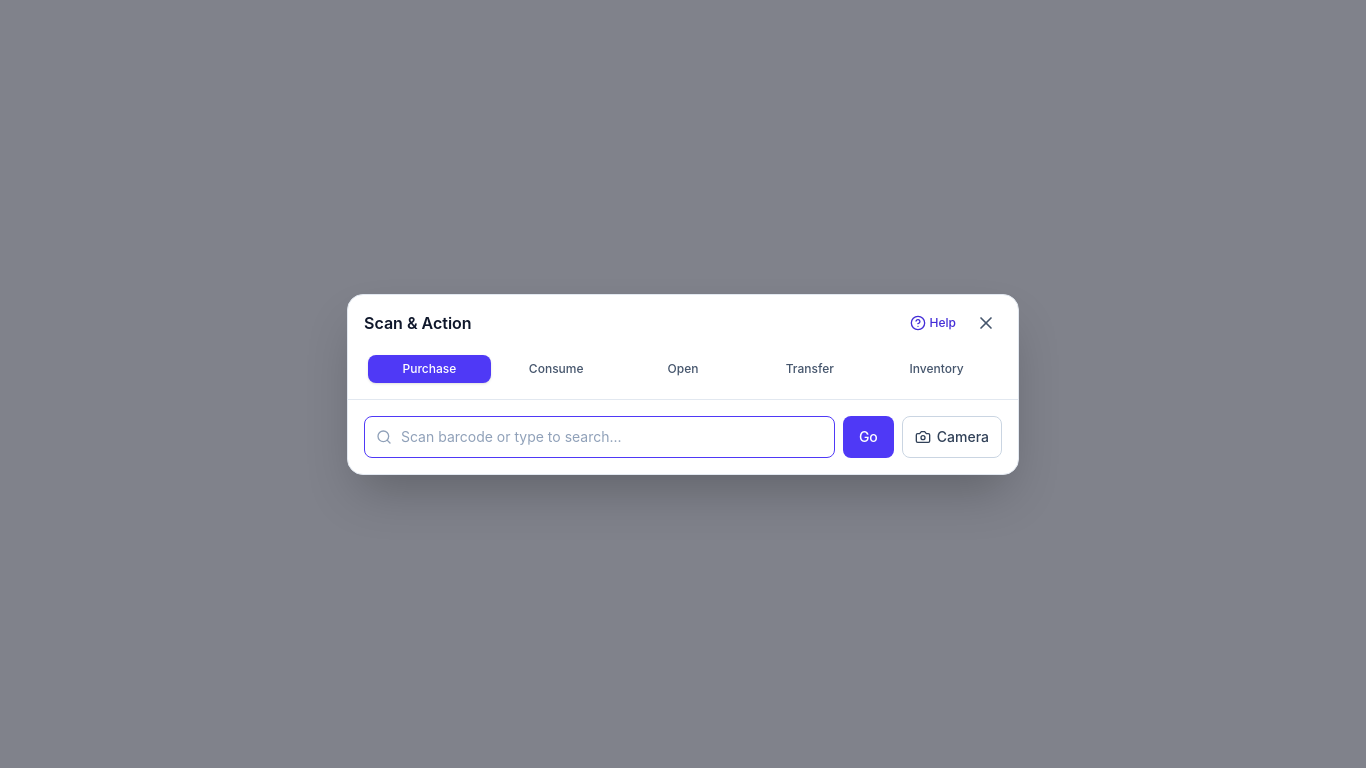
it: BarcodeScanner and ScannerDrawer › pre-fills Purchase Due Date from calculated_due_days when scanning a known barcode
The width and height of the screenshot is (1366, 768).
In the field named "Barcode or search input": point(599, 436) [364,416,835,458], type "028400156363"
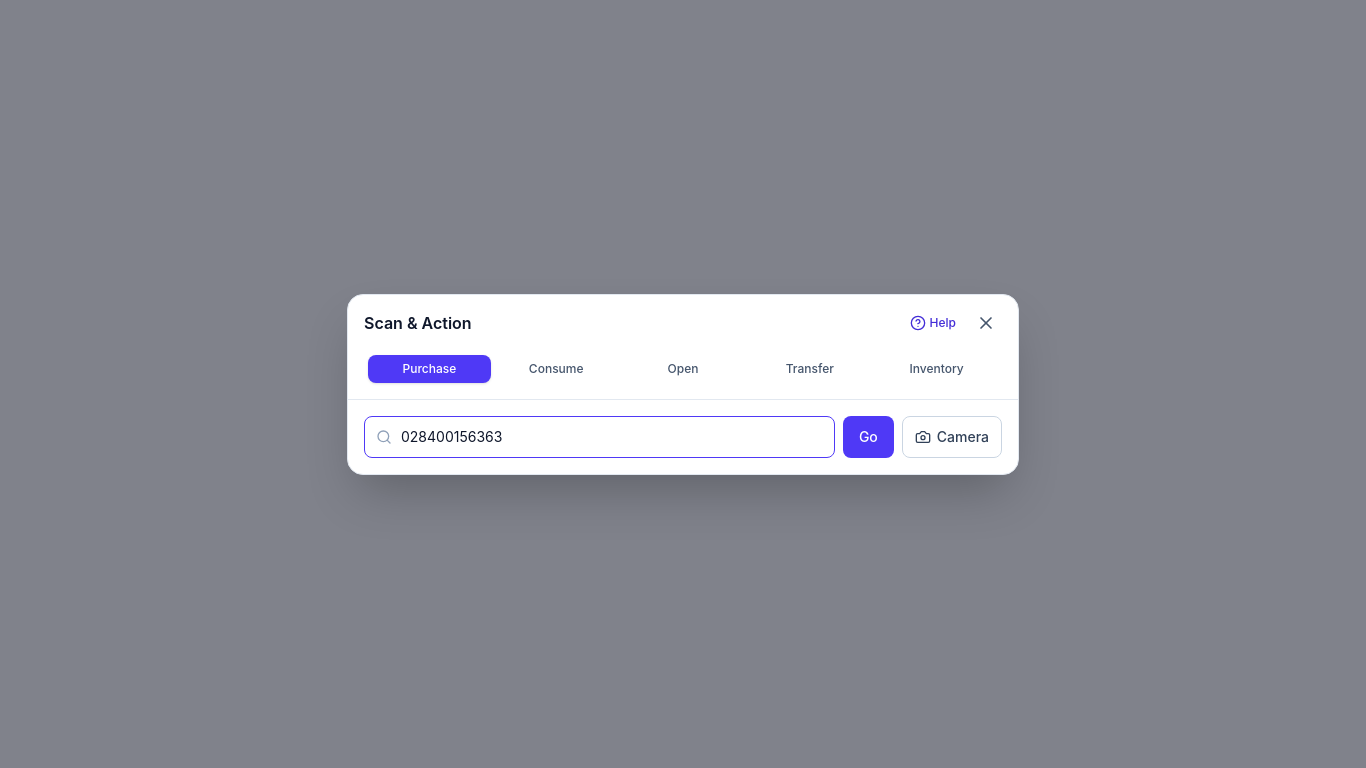
Submit the form named "Barcode or search input", box [364,416,1002,458]
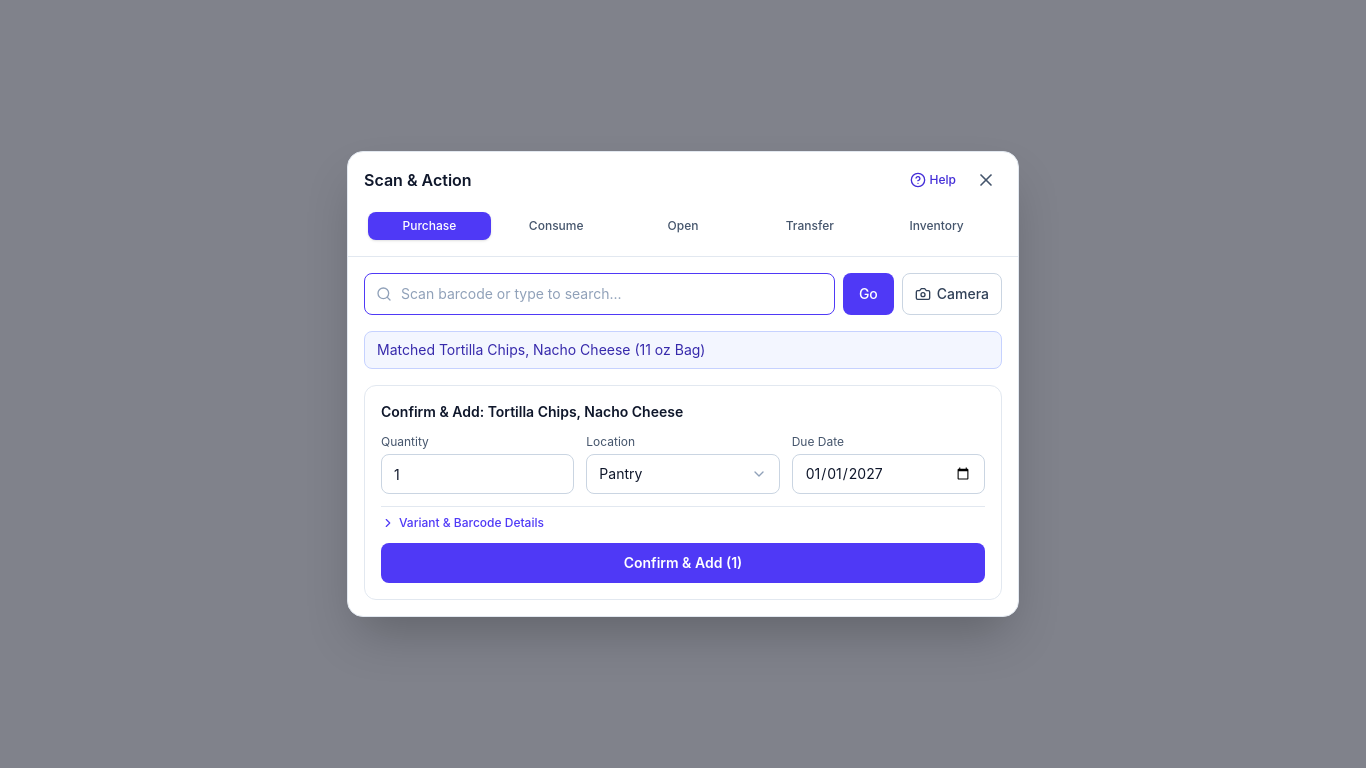
Now the heading "Confirm & Add: Tortilla Chips, Nacho Cheese" is shown, box [381,402,683,422]
Now the date field labelled "Due Date" holds "2027-01-01", box [792,454,985,494]
